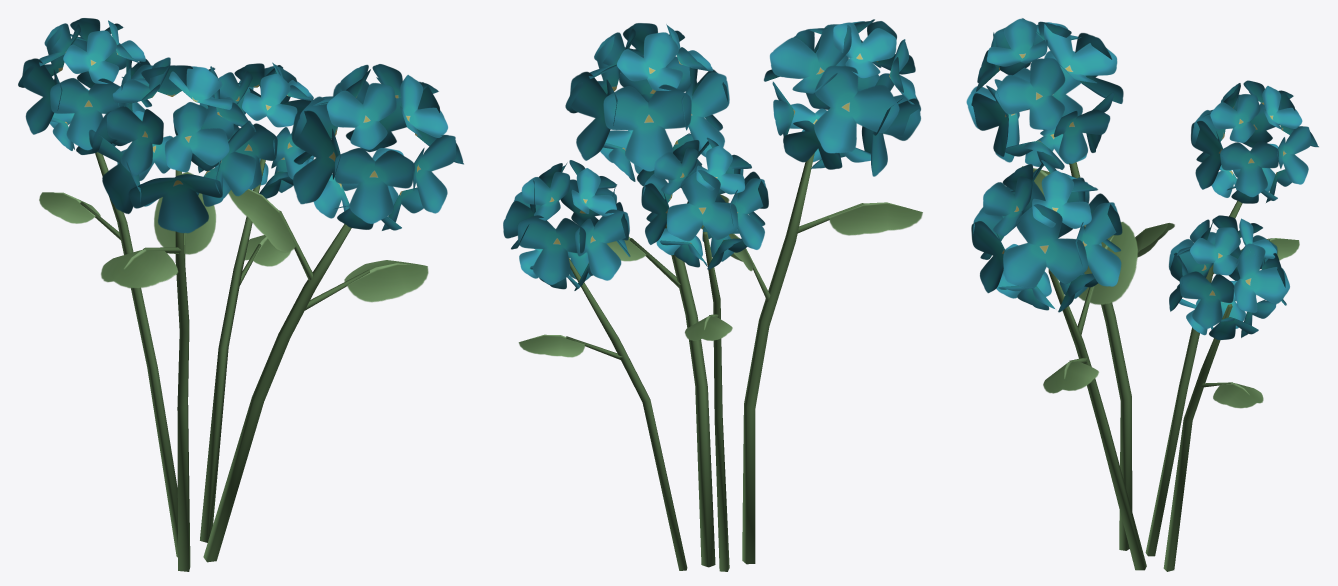
The model's file is estilizada-Flower_1_Clump.glb.
3 renders of one model, left to right at view 1: azimuth 30°, elevation 25°; view 2: azimuth 150°, elevation 25°; view 3: azimuth 270°, elevation 25°, orthographic. The views are drawn at different scales.
Visible parts, largest first — view 1: Flower_1_Clump; view 2: Flower_1_Clump; view 3: Flower_1_Clump.
Part boxes in pixels (bbox=[...]): Flower_1_Clump: bbox=[18, 18, 463, 571]; Flower_1_Clump: bbox=[503, 19, 922, 571]; Flower_1_Clump: bbox=[966, 18, 1318, 571].
Bounding box in the file's own units: 0.4711 × 0.6713 × 0.4352.
1 material, 1 textured.
